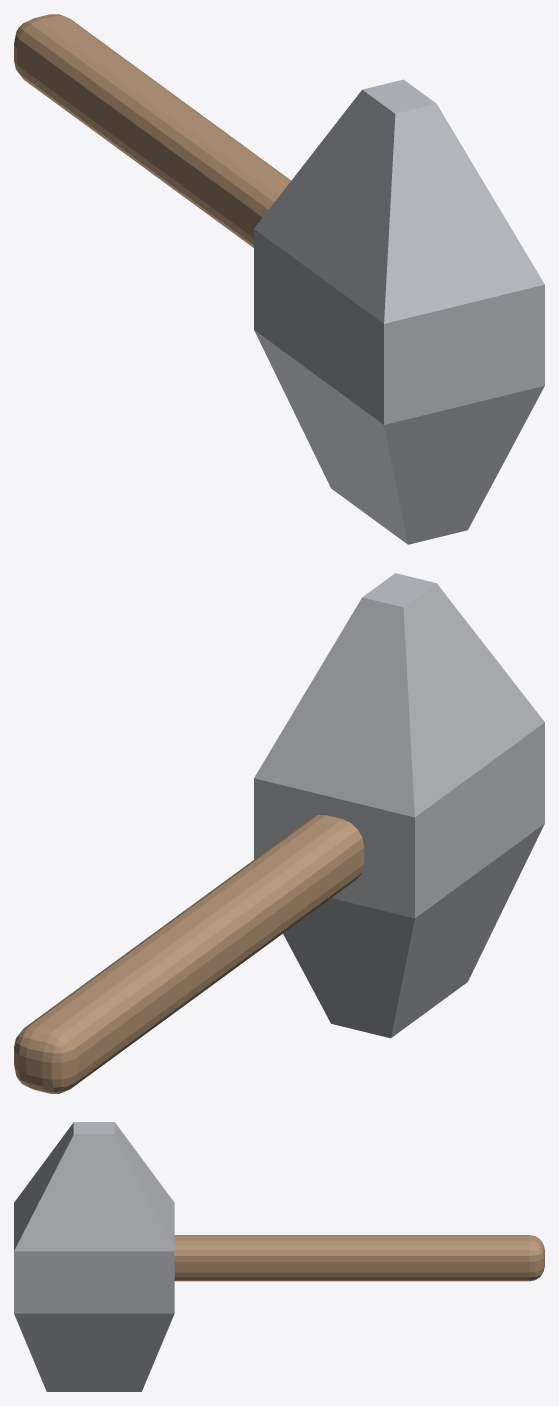
Rendered from Assets__Models__MechaMiner__pickaxe.fbx.
3 renders of one model, top to bottom at view 1: azimuth 30°, elevation 25°; view 2: azimuth 150°, elevation 25°; view 3: azimuth 270°, elevation 25°, orthographic. The views are drawn at different scales.
Visible parts, largest first — view 1: pickaxe_prop; view 2: pickaxe_prop; view 3: pickaxe_prop.
Boxes of the visible parts, bbox=[...] form: pickaxe_prop: bbox=[14, 14, 544, 544]; pickaxe_prop: bbox=[14, 573, 544, 1093]; pickaxe_prop: bbox=[14, 1122, 544, 1391].
Size of the model in its own units: 14 by 34.3 by 64.8.
